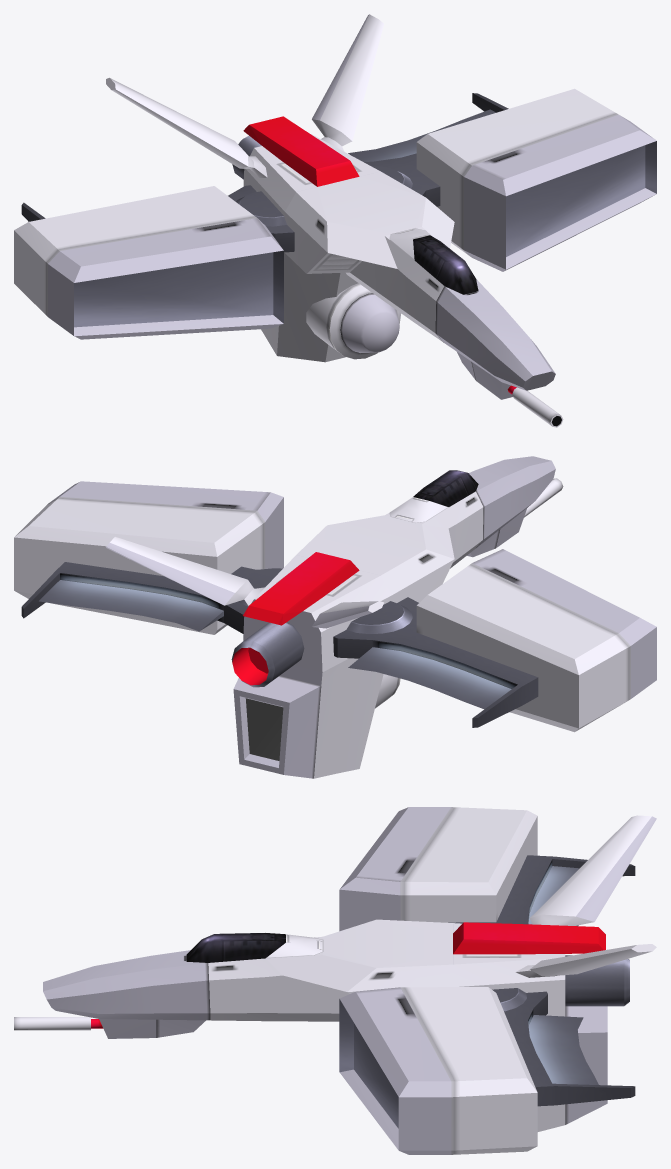
Rendered from M01_FA012_starbiter.fbx.
The picture shows the model from 3 angles, top to bottom: view 1: azimuth 30°, elevation 25°; view 2: azimuth 150°, elevation 25°; view 3: azimuth 270°, elevation 25°; orthographic projection.
Parts seen in each view (by area): view 1: laser_system, body, stabilizer, rador, proton_gun; view 2: laser_system, body, stabilizer, nozzle; view 3: body, laser_system, stabilizer, nozzle, proton_gun.
Boxes of the visible parts, <box> form: laser_system: <box>14,88,656,339</box>; body: <box>106,14,555,399</box>; stabilizer: <box>21,93,508,252</box>; rador: <box>306,283,401,359</box>; proton_gun: <box>507,385,563,427</box>; laser_system: <box>14,481,656,732</box>; body: <box>106,456,555,778</box>; stabilizer: <box>21,562,538,727</box>; nozzle: <box>231,622,304,687</box>; body: <box>43,815,656,1131</box>; laser_system: <box>339,807,537,1154</box>; stabilizer: <box>448,855,635,1106</box>; nozzle: <box>565,955,629,1006</box>; proton_gun: <box>14,1017,103,1030</box>.
Bounding box in the file's own units: 6.96 × 2.77 × 6.62.
